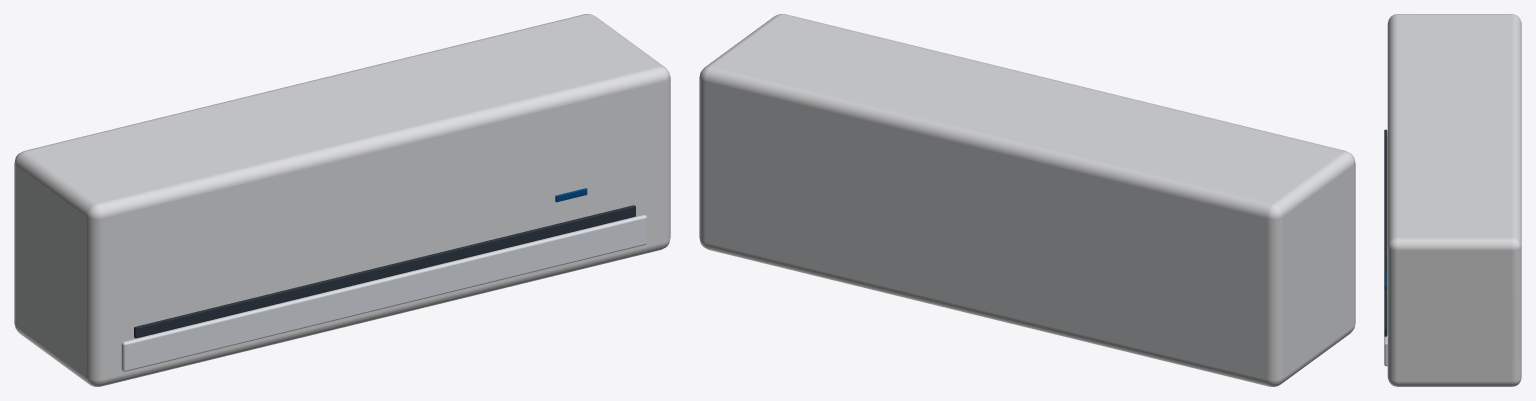
Rendered from wall-l.glb.
The picture shows the model from 3 angles, left to right: view 1: azimuth 30°, elevation 25°; view 2: azimuth 150°, elevation 25°; view 3: azimuth 270°, elevation 25°; orthographic projection. The views are drawn at different scales.
Size of the model in its own units: 1.1 by 0.33 by 0.277.
